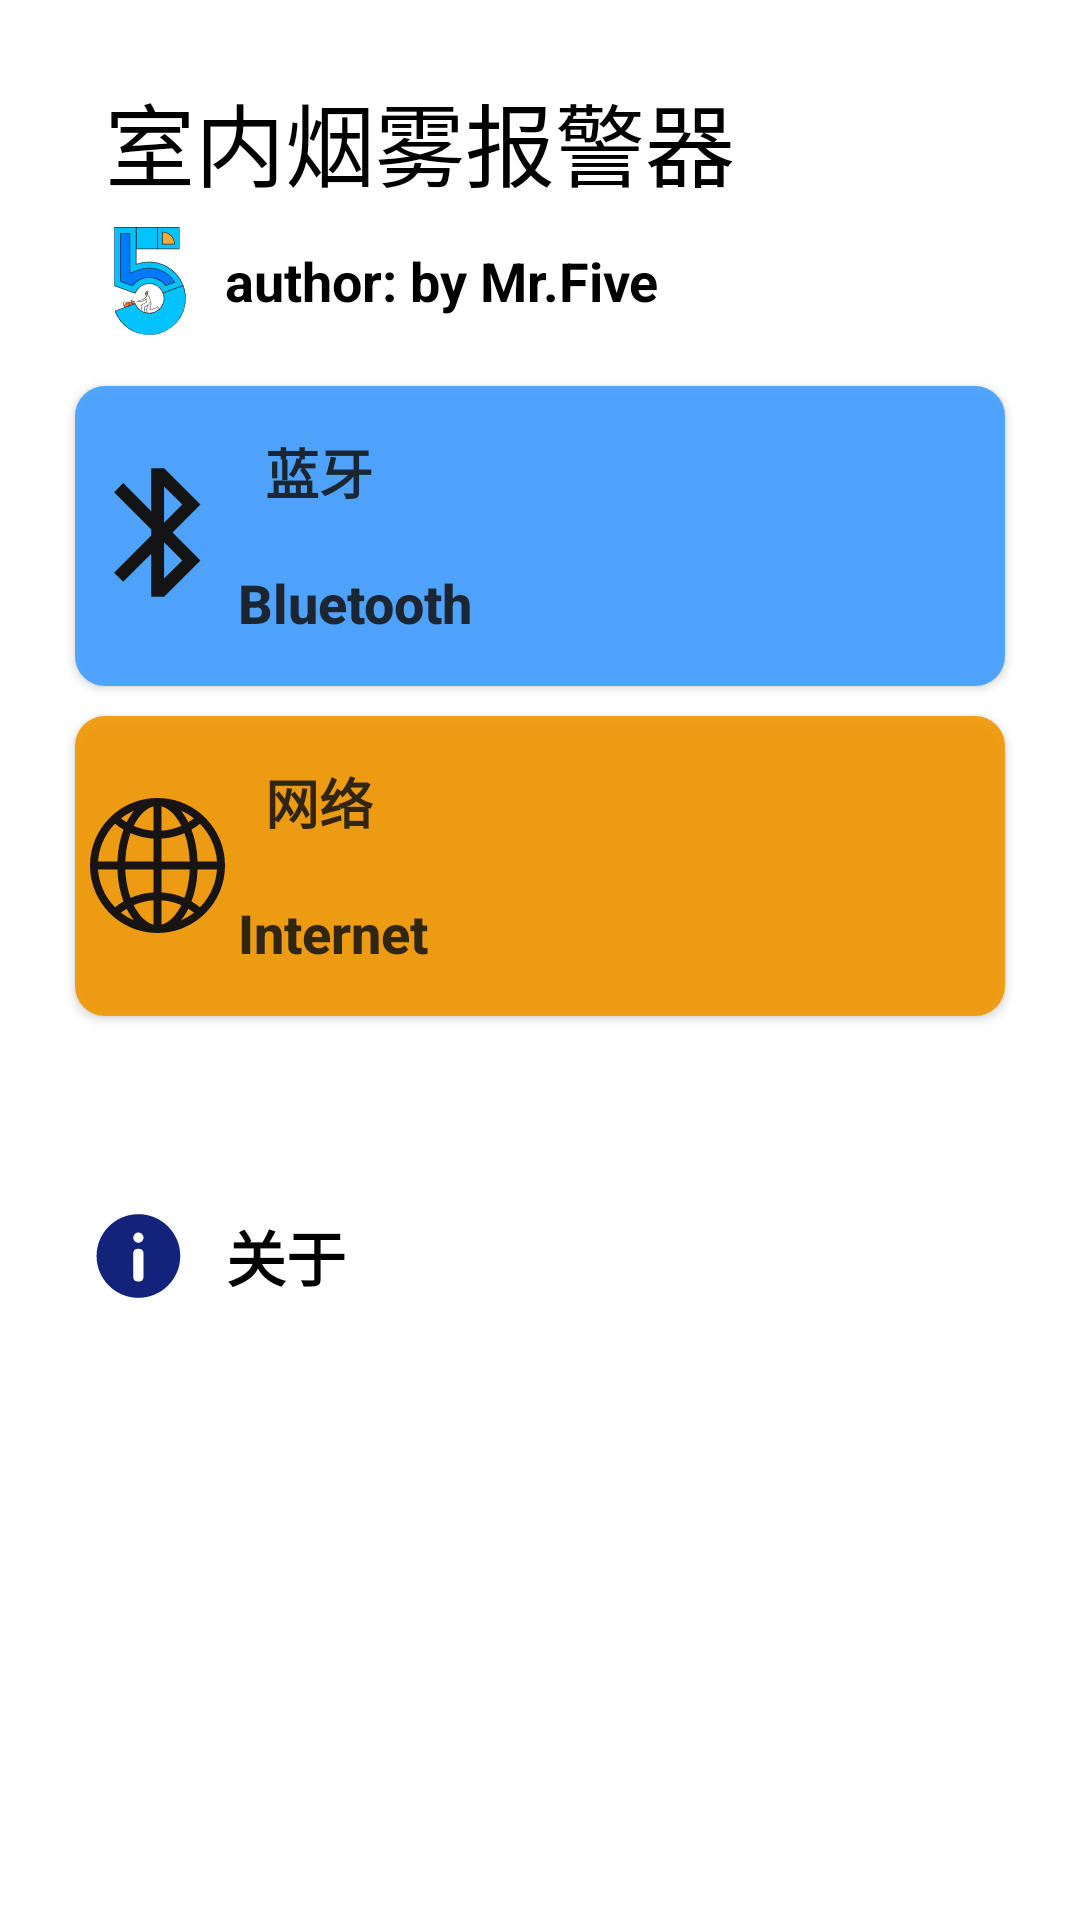

Locate icon controls on the screen. Image size 1080px x 1920px, boxes as [x1=x1, y1=y1, x2=x2, y2=y2].
number: [x1=114, y1=227, x2=186, y2=335]
